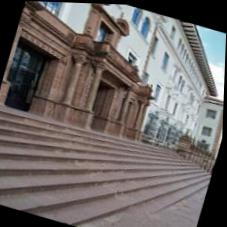Bench: (0, 105, 153, 227)
